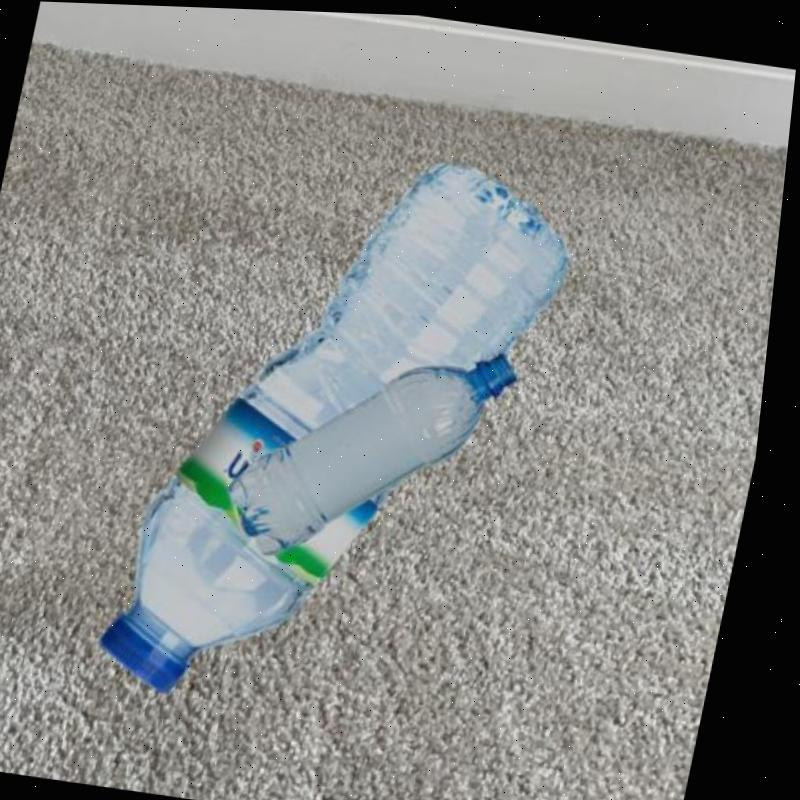botella: (100, 121, 598, 733), (227, 318, 531, 577)
